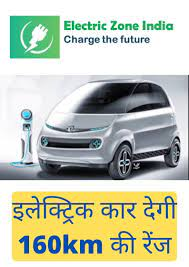Nano: (38, 77, 182, 179)
